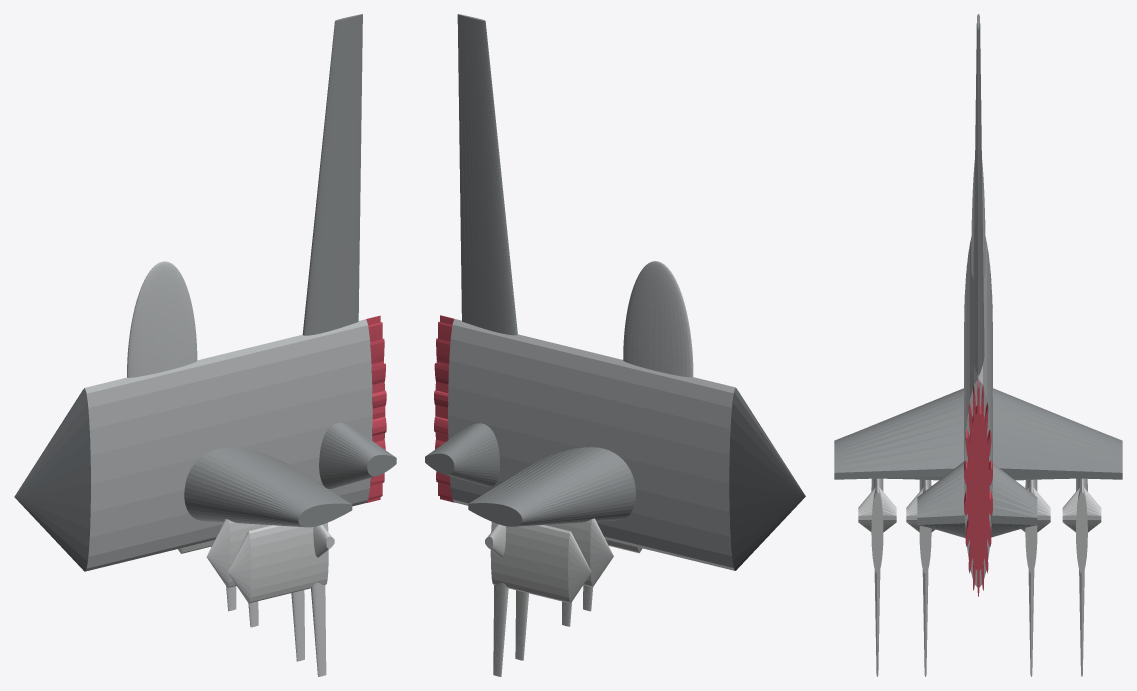
Rendered from jet.glb.
3 views of the same model, side by side, from view 1: azimuth 30°, elevation 25°; view 2: azimuth 150°, elevation 25°; view 3: azimuth 270°, elevation 25° (orthographic). The views are drawn at different scales.
Parts seen in each view (by area): view 1: Mesh_Mesh_head_geo.001_lambert2SG.001; view 2: Mesh_Mesh_head_geo.001_lambert2SG.001; view 3: Mesh_Mesh_head_geo.001_lambert2SG.001.
Part boxes in pixels (box(x1,y1,x2,y2)): Mesh_Mesh_head_geo.001_lambert2SG.001: box(14, 14, 396, 676); Mesh_Mesh_head_geo.001_lambert2SG.001: box(425, 14, 805, 676); Mesh_Mesh_head_geo.001_lambert2SG.001: box(834, 14, 1122, 676).
Size of the model in its own units: 25 by 39.71 by 15.
